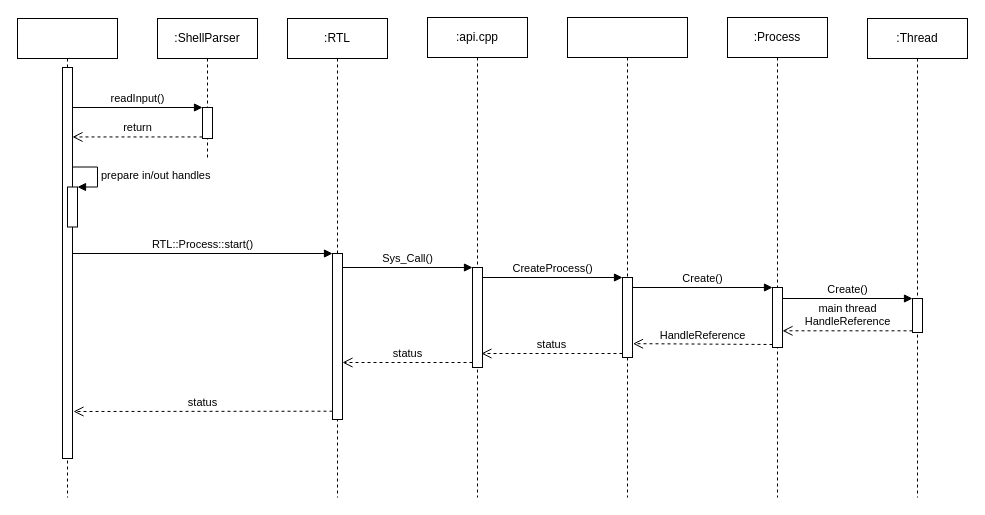
This 985x515 diagram has some shape labels left out. The box of each missing label's shape, as (x1, y1, x2, y2) in pixels:
:Shell: (16, 18, 118, 498)
:syscall_process.cpp: (566, 16, 688, 498)
